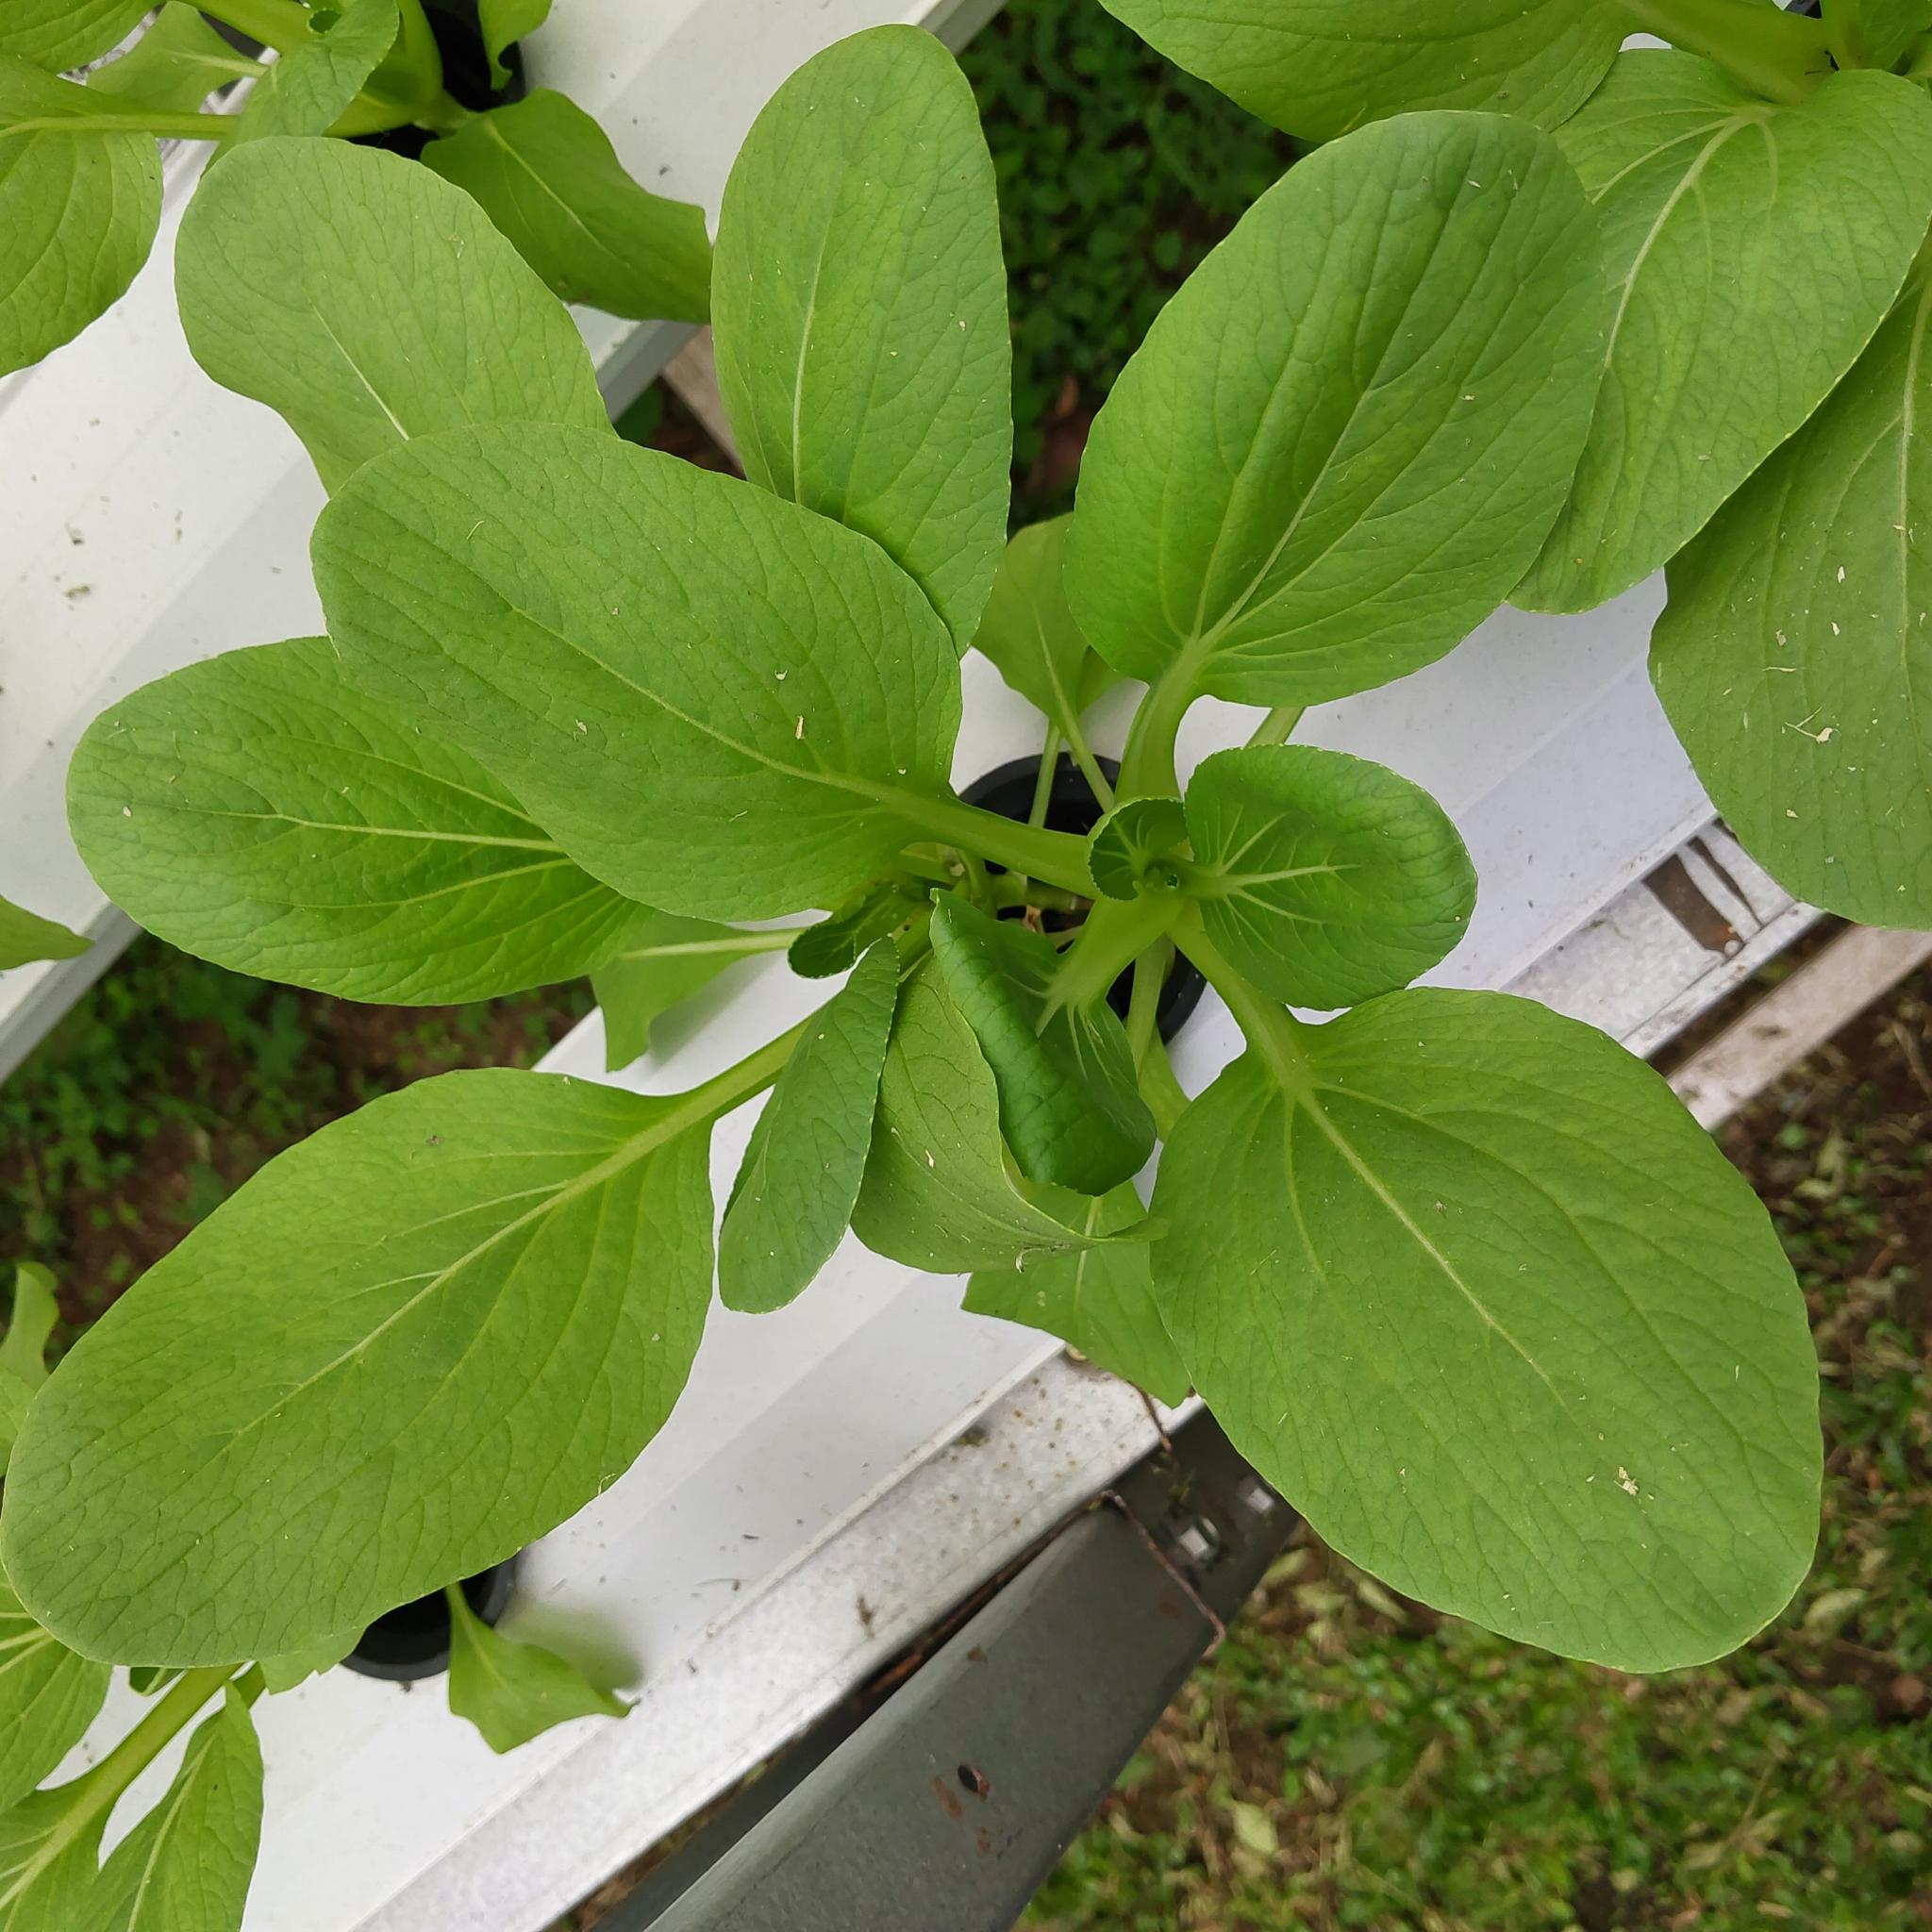Healthy-Pechay: (4, 1039, 814, 1684), (1171, 1016, 1815, 1668), (310, 418, 954, 934), (1086, 101, 1606, 727), (1502, 50, 1932, 626), (717, 18, 1008, 658), (172, 136, 610, 508), (7, 950, 331, 1263), (1134, 748, 1477, 1021), (860, 924, 1095, 1270), (1097, 4, 1647, 142), (416, 88, 713, 327), (713, 954, 909, 1292), (2, 62, 172, 395), (127, 0, 409, 145), (94, 1693, 264, 1921), (1031, 1196, 1185, 1417), (2, 1571, 117, 1831), (152, 800, 593, 856), (1191, 936, 1315, 1099), (0, 878, 94, 973), (471, 2, 554, 88)
